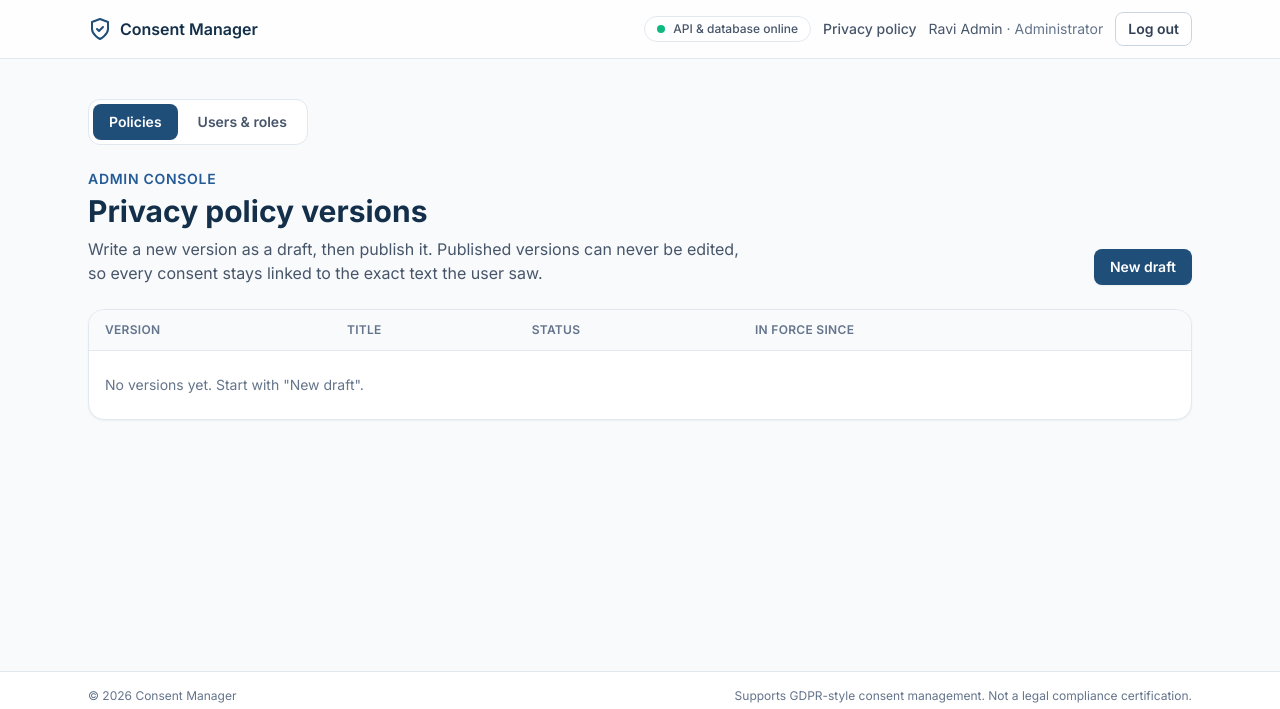
admin policy editor (FR-13, FR-14, FR-15) › shows field errors from the API
Click the button "New draft" at [1143, 267], box top-left (1094, 249), bottom-right (1192, 285)
(page scrolled)
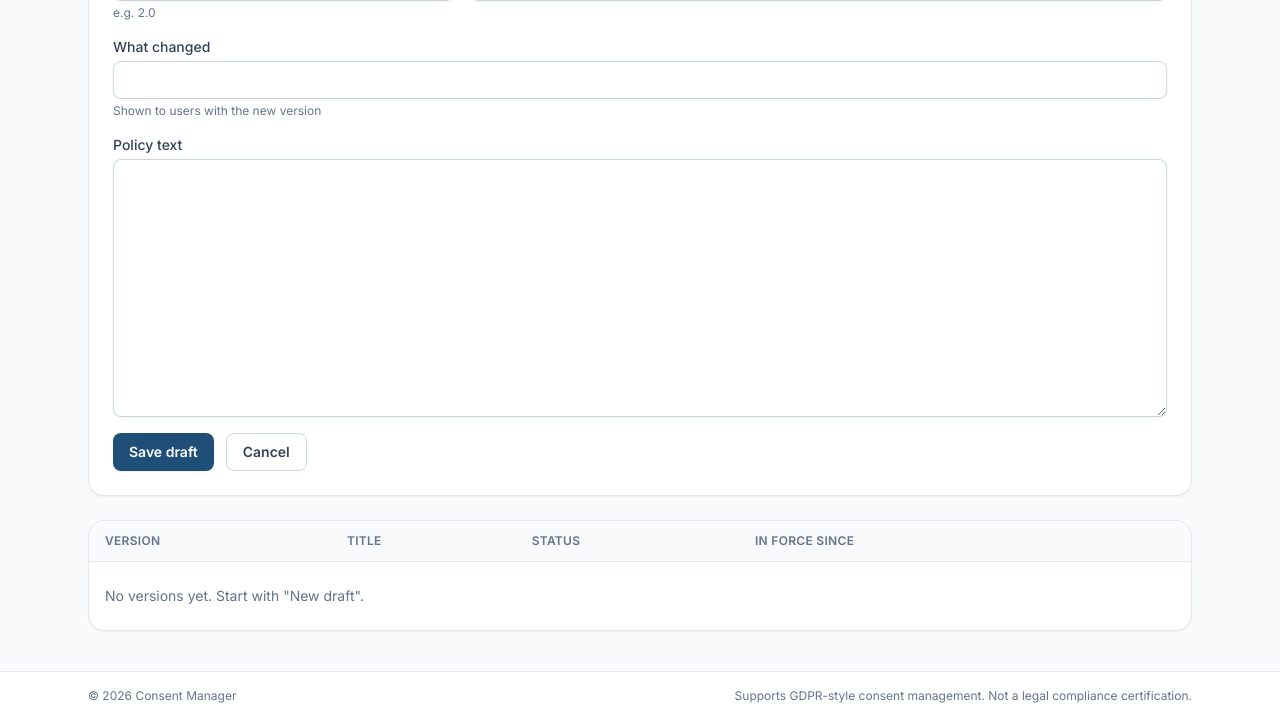
Click the button "Save draft" at [163, 452], box top-left (113, 433), bottom-right (214, 471)
(page scrolled)
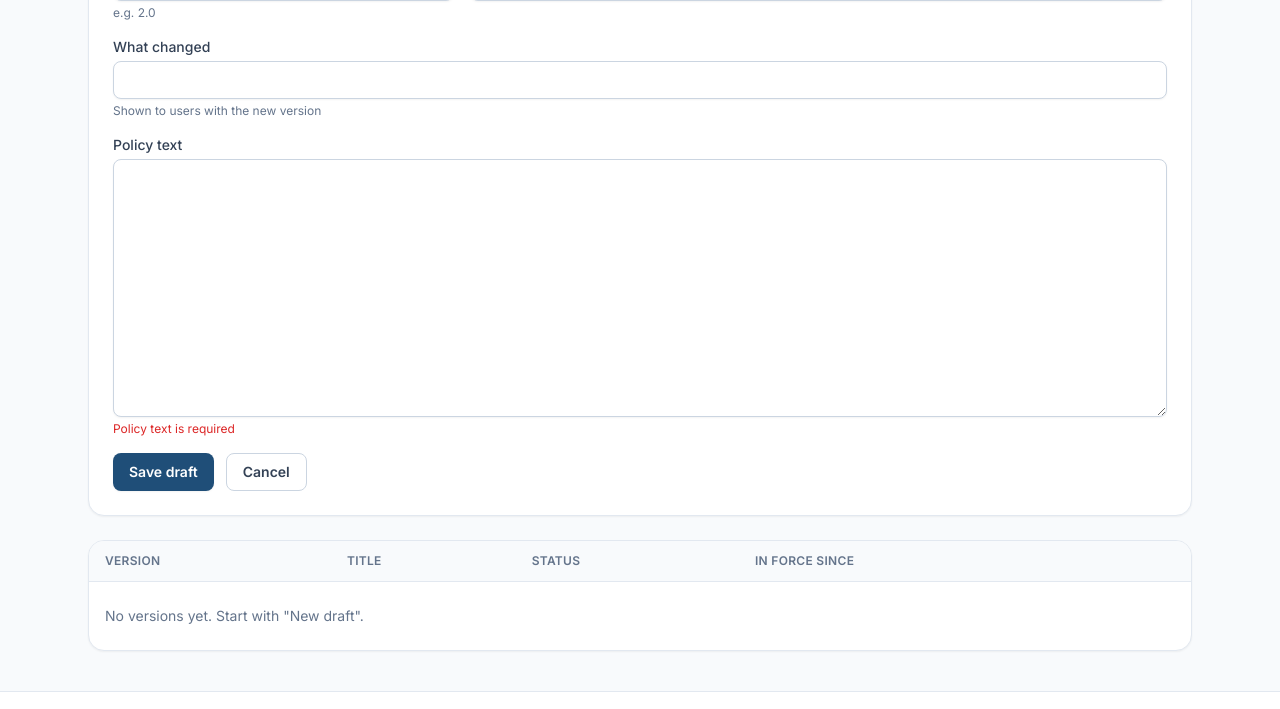
Expected: the text "Policy text is required" is shown, top-left (113, 421), bottom-right (235, 436)
